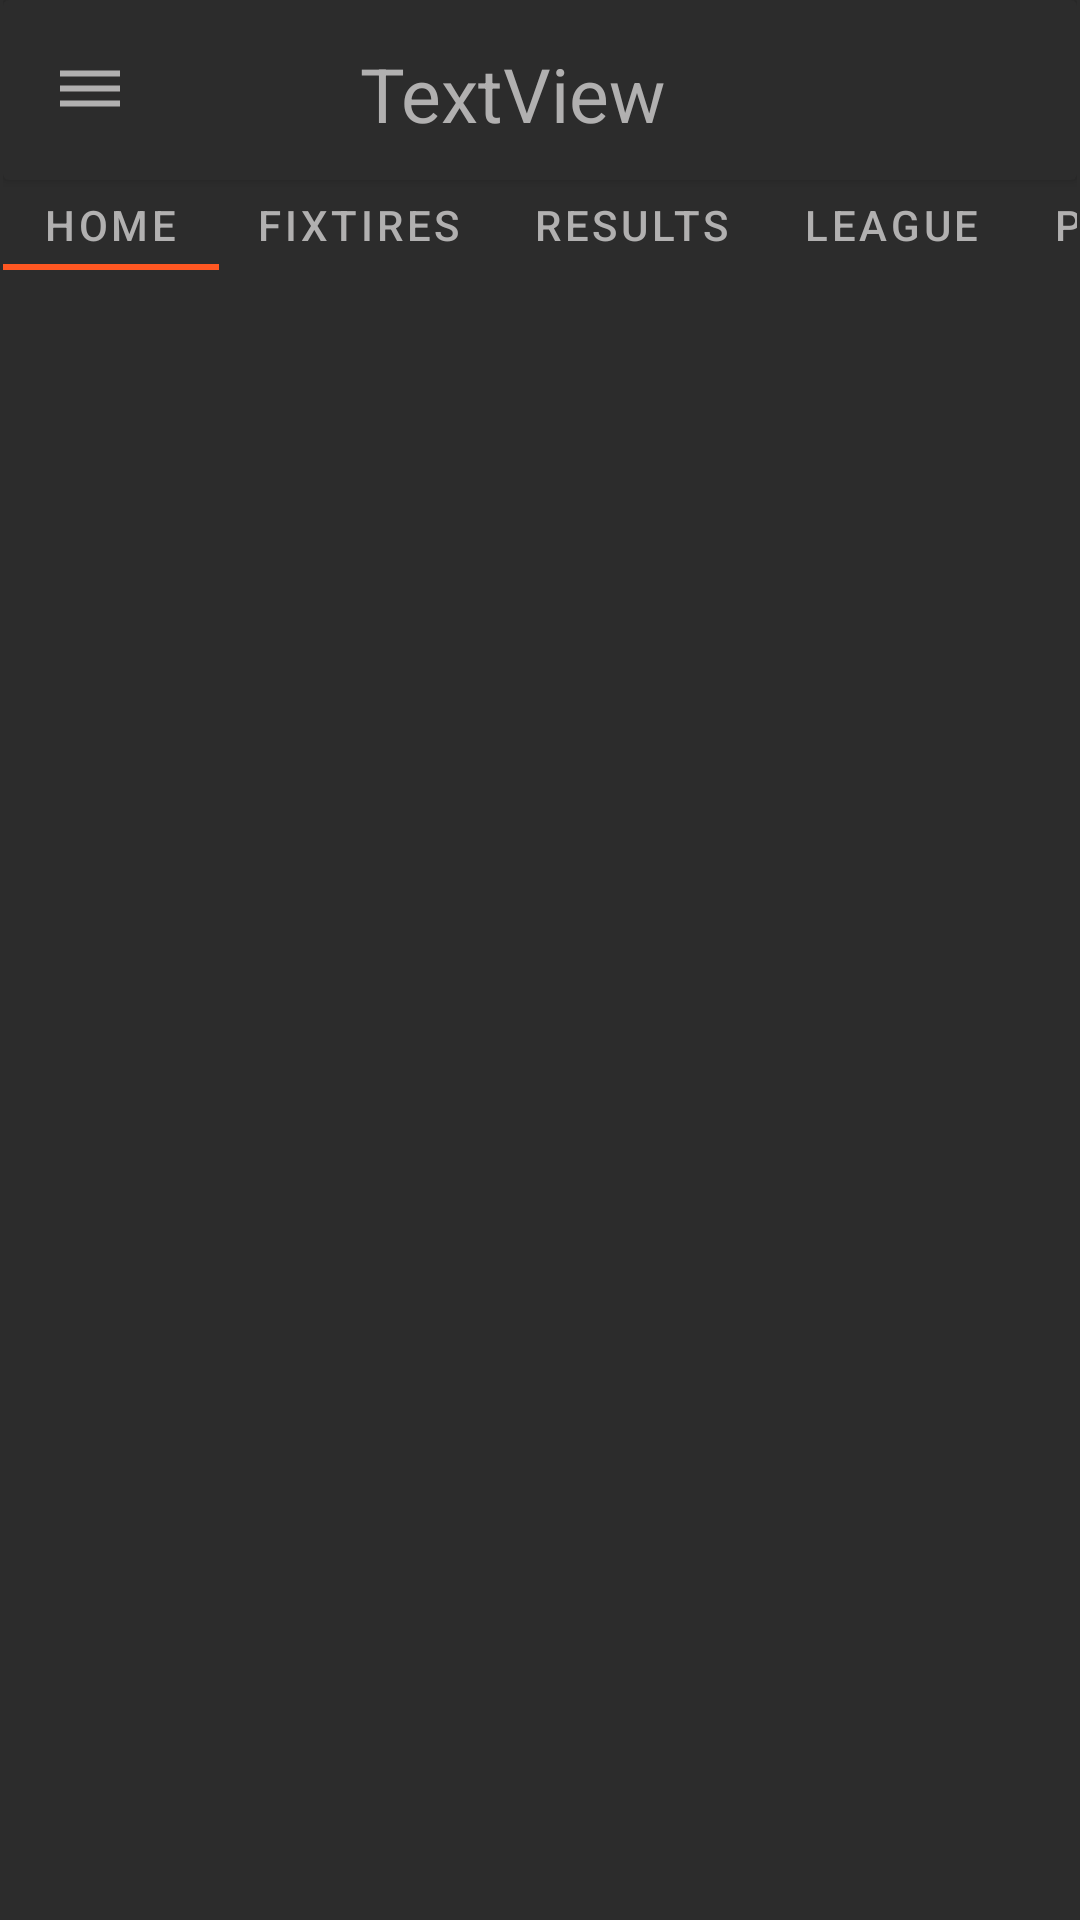

Icons on this 1080 x 1920 Android screen, each with the point to tap as point (x, y):
dehaze: point (90, 88)
